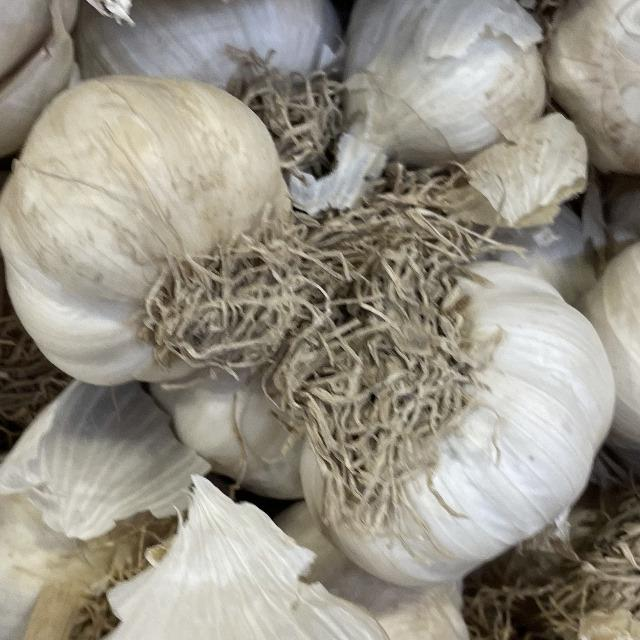garlic: (0, 32, 322, 410), (5, 487, 440, 640)
